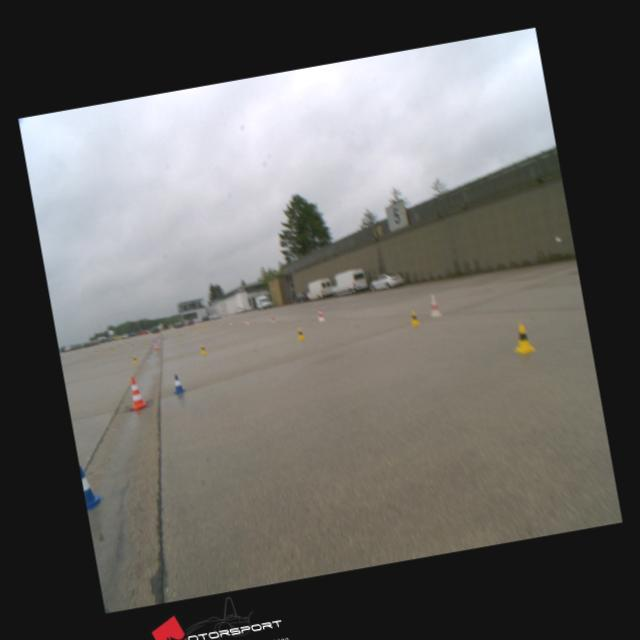blue_cone: (80, 462, 104, 509), (170, 374, 186, 394)
large_orange_cone: (126, 374, 148, 410), (152, 340, 158, 350)
yellow_cone: (509, 321, 534, 355), (410, 310, 420, 326), (294, 327, 304, 341), (199, 343, 207, 354), (132, 354, 138, 364)
